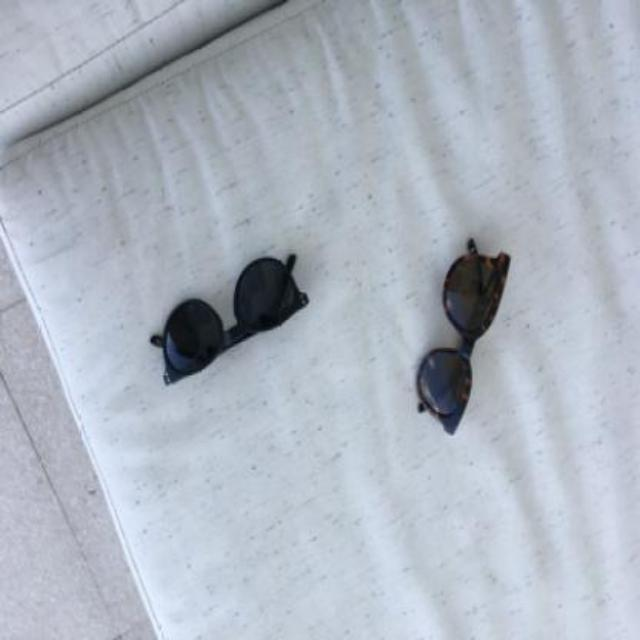glasses: (148, 252, 308, 388), (413, 239, 511, 435)
